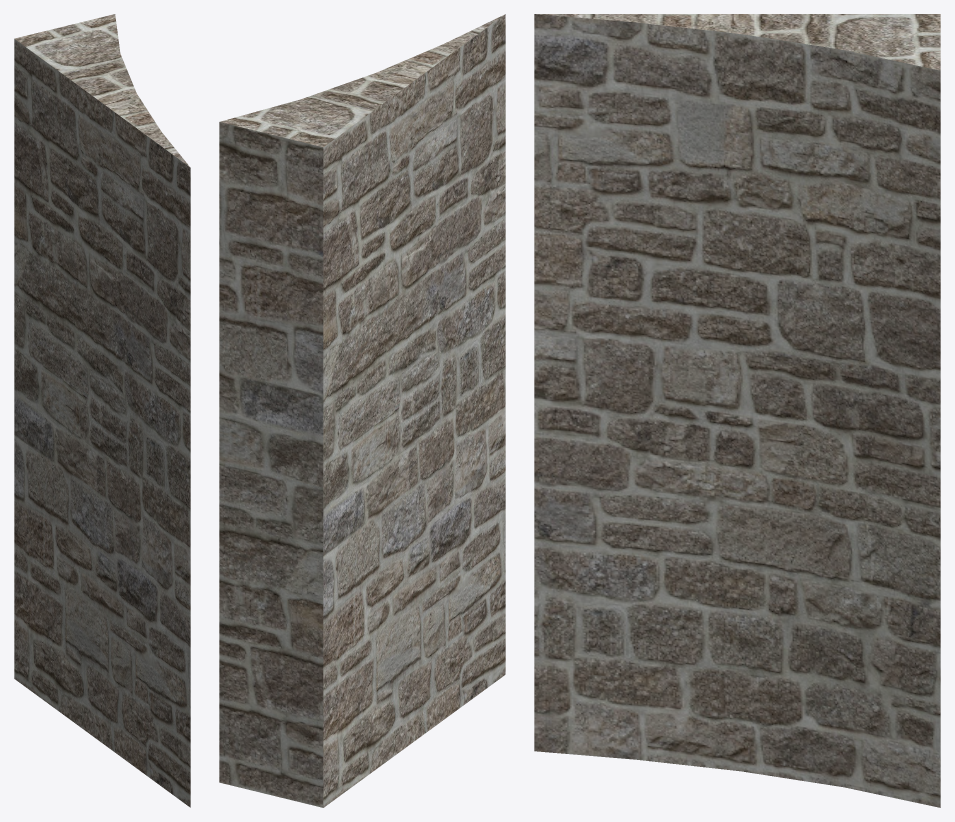
File: wall_curved_big_in_s1.obj
The picture shows the model from 3 angles, left to right: view 1: azimuth 30°, elevation 25°; view 2: azimuth 150°, elevation 25°; view 3: azimuth 270°, elevation 25°; orthographic projection. The views are drawn at different scales.
Size of the model in its own units: 0.3301 by 2 by 0.9998.
